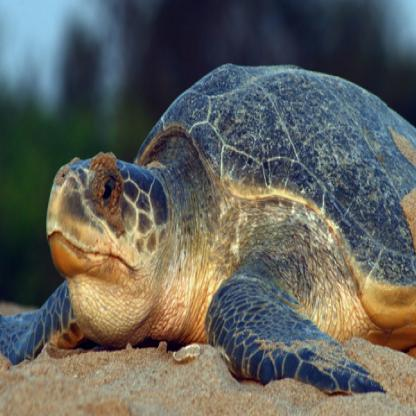turtle: (40, 144, 175, 352)
